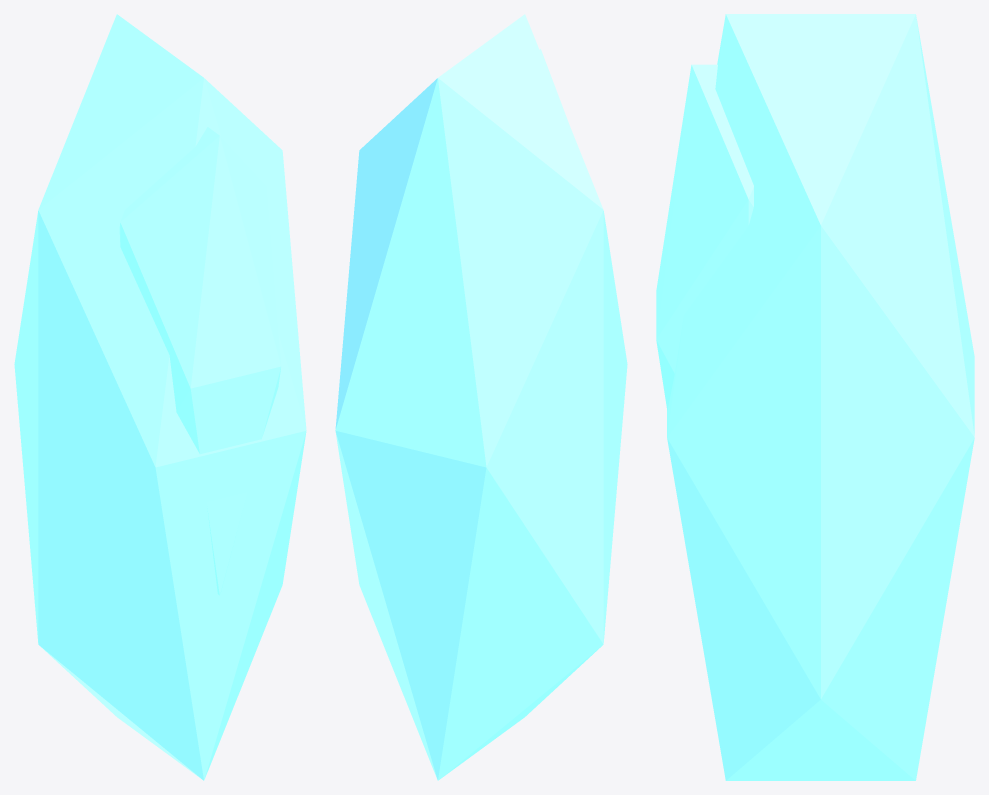
The model's file is bolt.glb.
3 views of the same model, side by side, from view 1: azimuth 30°, elevation 25°; view 2: azimuth 150°, elevation 25°; view 3: azimuth 270°, elevation 25° (orthographic). The views are drawn at different scales.
Parts seen in each view (by area): view 1: Bolt, Core; view 2: Bolt; view 3: Bolt, Core.
Boxes of the visible parts, x1,y1,x2,y2 form: Bolt: (14, 14, 306, 780); Core: (119, 127, 281, 595); Bolt: (335, 14, 627, 780); Bolt: (667, 14, 974, 780); Core: (656, 64, 753, 410).
Size of the model in its own units: 0.1701 by 0.4679 by 0.1761.
